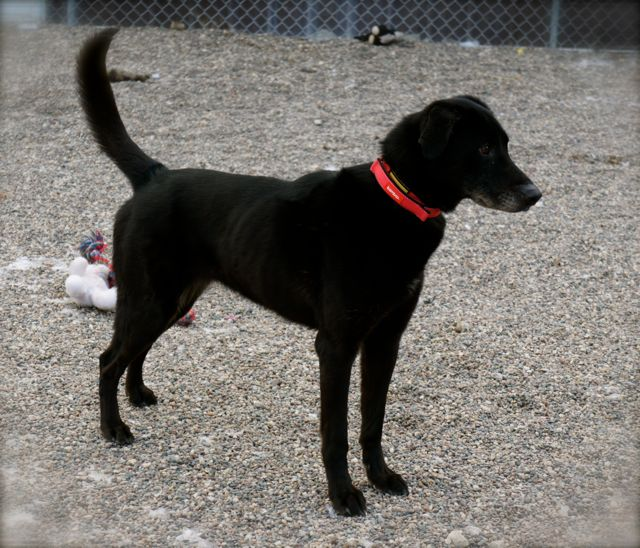tail: (70, 27, 170, 179)
